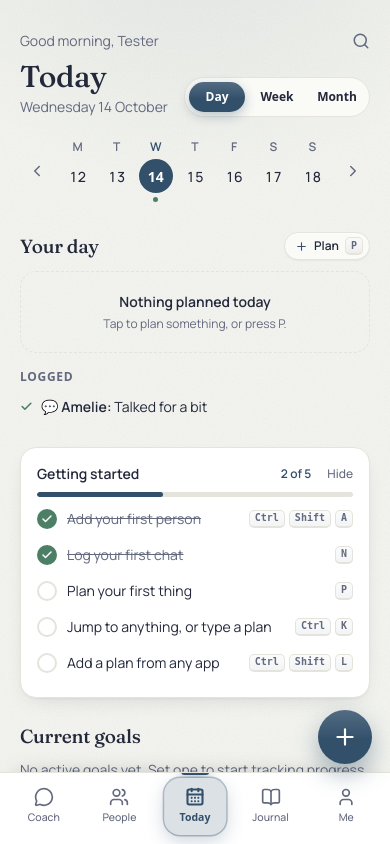
Scenario: a conversation in person › isn't offered without Claude
Click the button "Journal" at (271, 807), box left=233, top=781, right=308, bottom=832
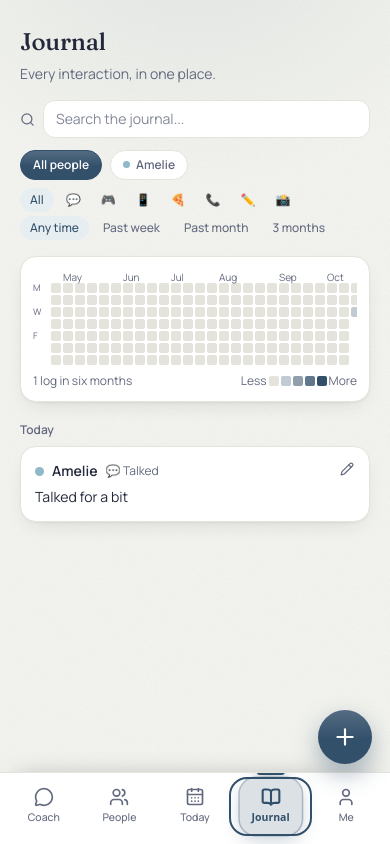
Expected: the button named "Edit entry: Amelie" is shown, left=334, top=456, right=360, bottom=482
